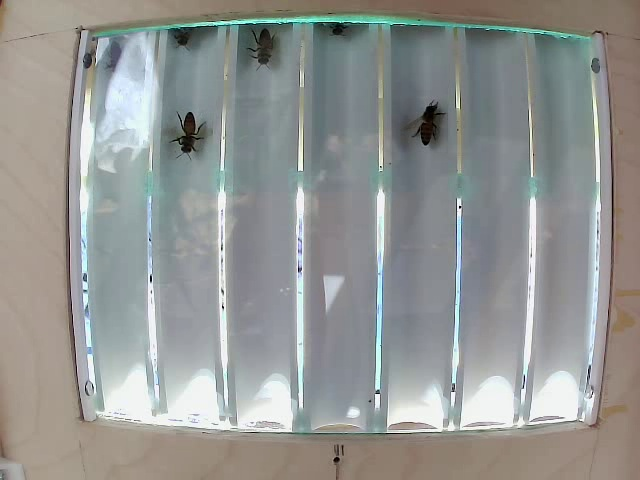bee: (169, 110, 218, 179), (408, 83, 449, 153), (247, 28, 288, 85)
